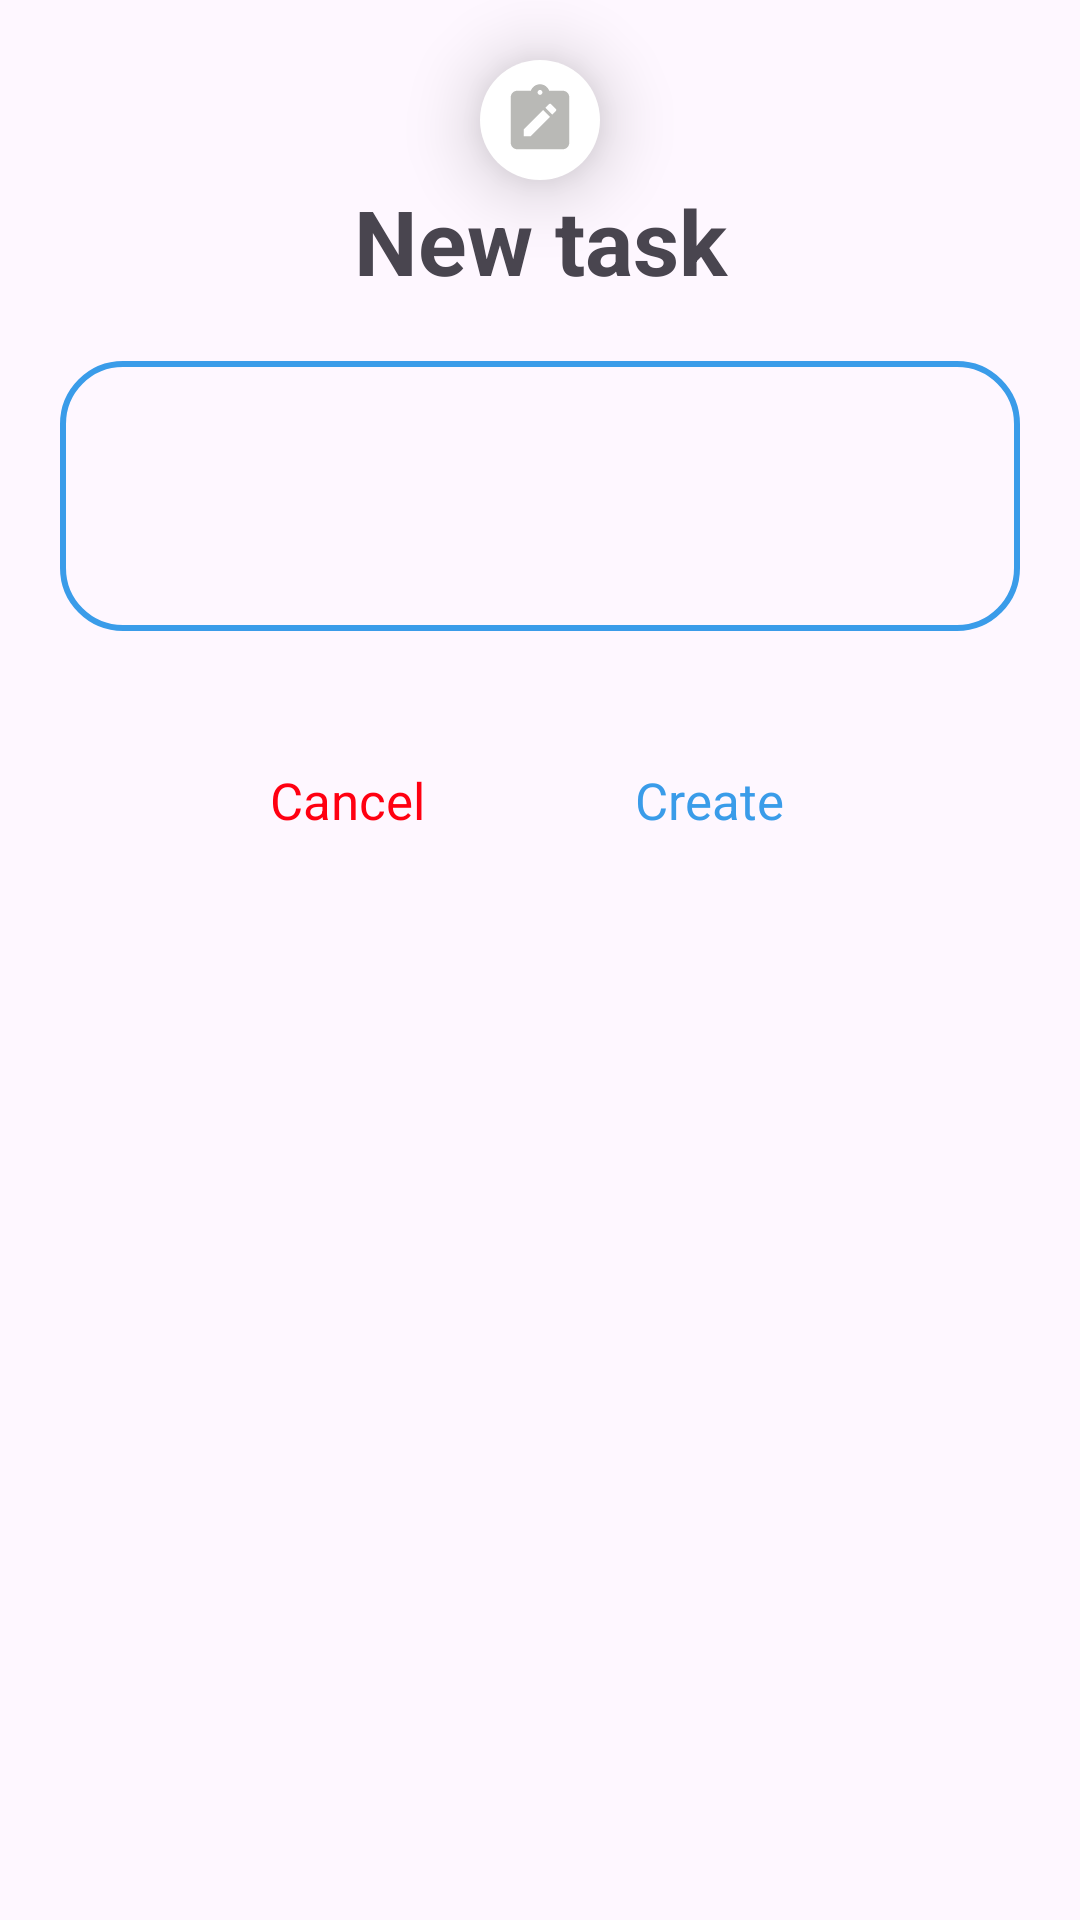

Screen size 1080 x 1920. Icon name, then its center in pixels as (x,y):
note: (540,120)
